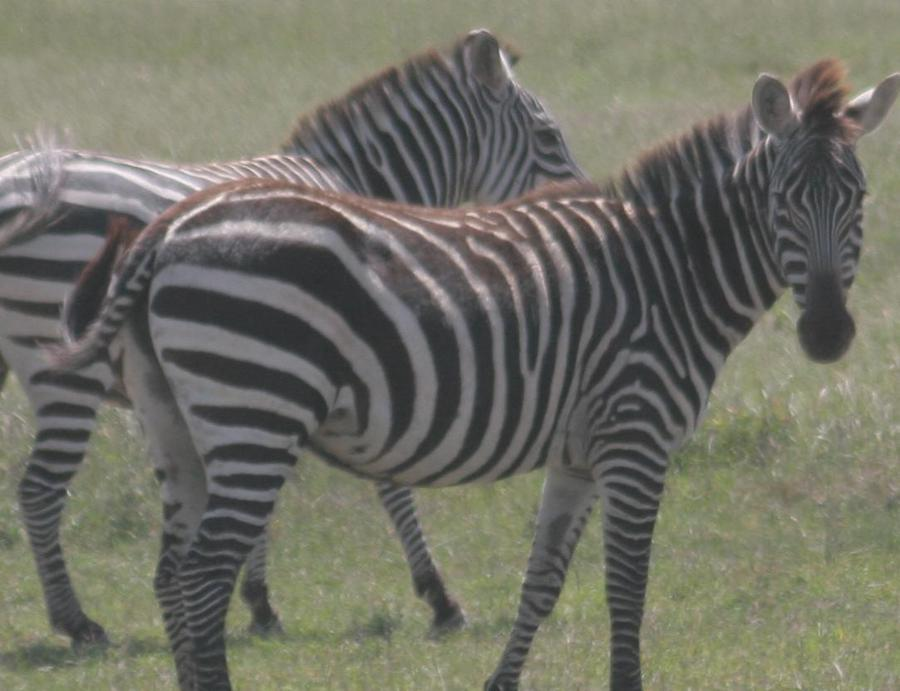zebra_plains: (135, 132, 767, 543)
